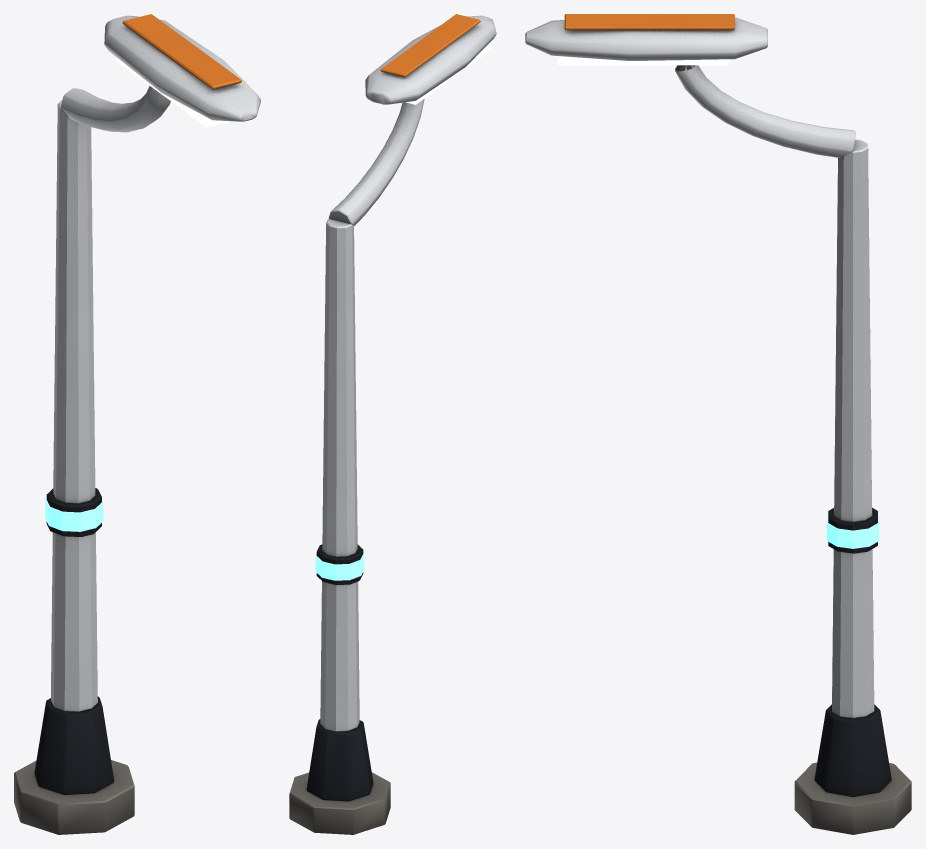
Rendered from Farola.fbx.
The picture shows the model from 3 angles, left to right: view 1: azimuth 30°, elevation 25°; view 2: azimuth 150°, elevation 25°; view 3: azimuth 270°, elevation 25°; orthographic projection. The views are drawn at different scales.
Visible parts, largest first — view 1: Farola, Farola_Neon; view 2: Farola, Farola_Neon; view 3: Farola, Farola_Neon.
Part boxes in pixels (box(x1,y1,x2,y2)): Farola: box(14, 14, 260, 834); Farola_Neon: box(45, 57, 230, 531); Farola: box(289, 14, 496, 834); Farola_Neon: box(315, 45, 491, 580); Farola: box(525, 14, 911, 834); Farola_Neon: box(558, 56, 879, 548).
Size of the model in its own units: 0.4998 by 3.72 by 1.65.
3 materials, 1 textured.
